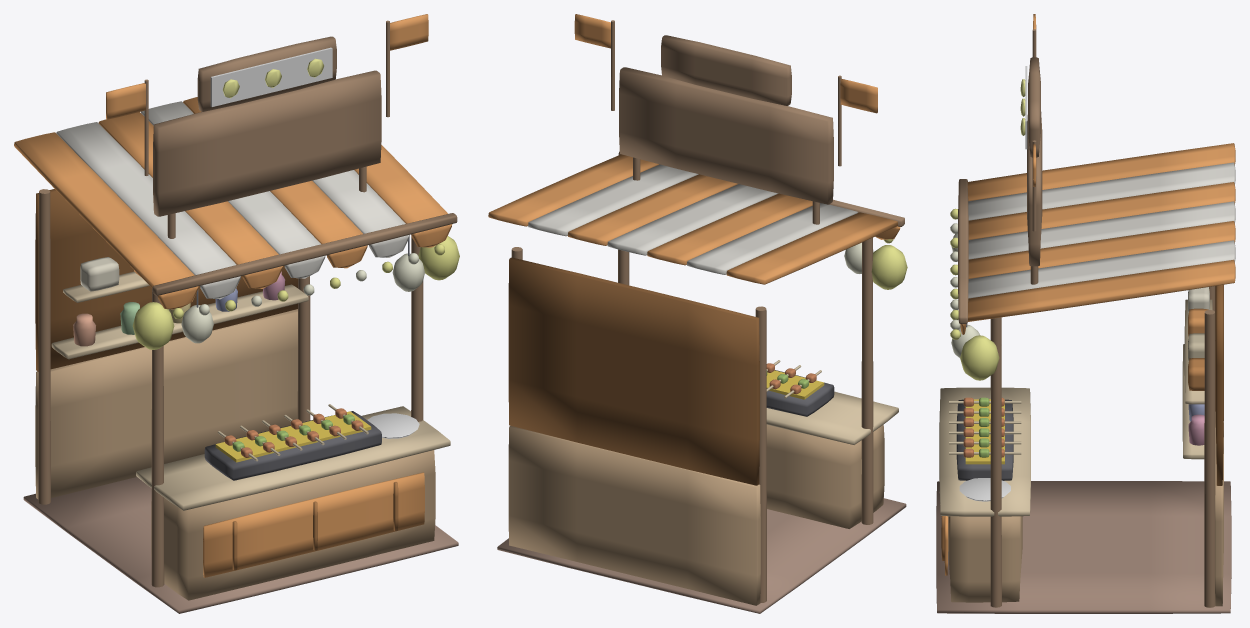
Rendered from stall_skewers.glb.
3 renders of one model, left to right at view 1: azimuth 30°, elevation 25°; view 2: azimuth 150°, elevation 25°; view 3: azimuth 270°, elevation 25°, orthographic. The views are drawn at different scales.
Visible parts, largest first — view 1: body, level3, level2; view 2: body, level3, level2; view 3: body, level2, level3.
Part boxes in pixels (left/top/right/bottom): body: left=14, top=70, right=458, bottom=613; level3: left=106, top=14, right=428, bottom=175; level2: left=63, top=236, right=459, bottom=349; body: left=488, top=67, right=906, bottom=613; level3: left=574, top=14, right=877, bottom=166; level2: left=871, top=239, right=907, bottom=289; body: left=936, top=112, right=1235, bottom=613; level2: left=950, top=208, right=1212, bottom=404; level3: left=1020, top=14, right=1040, bottom=231.
Size of the model in its own units: 3.2 by 4.68 by 2.73.
